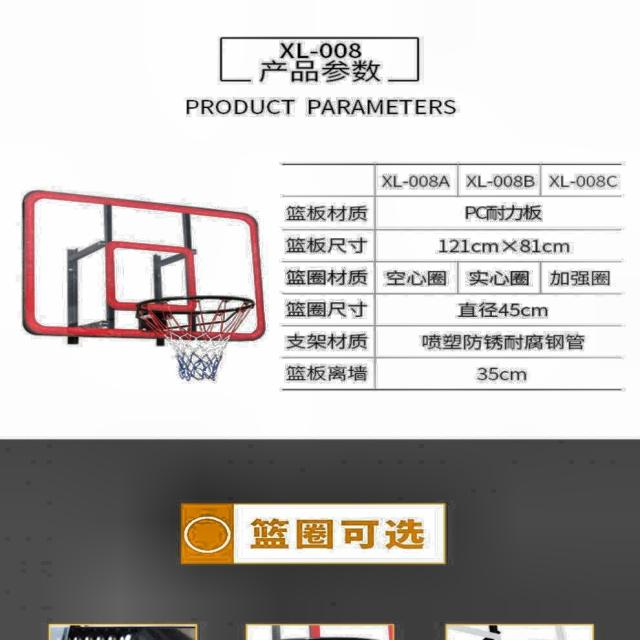rim: (140, 294, 256, 382)
